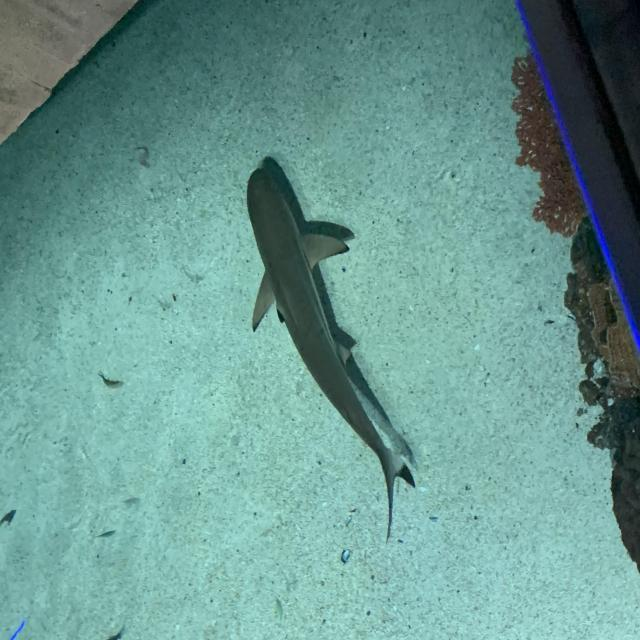shark: (247, 165, 415, 546)
